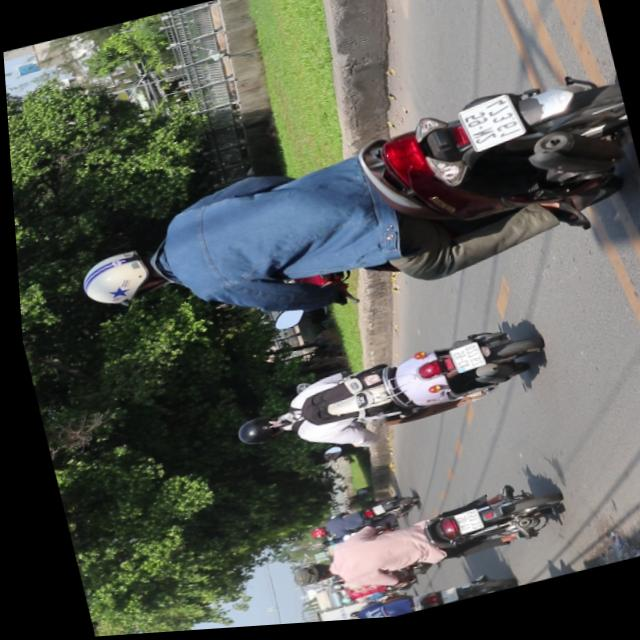helmet: (69, 241, 174, 318), (224, 410, 292, 452)
licenseplate: (48, 65, 640, 372), (212, 320, 553, 481), (266, 478, 564, 611)
motorcyclist: (279, 561, 325, 593)
nohelmet: (451, 98, 524, 162), (442, 347, 480, 380), (443, 513, 475, 542)
